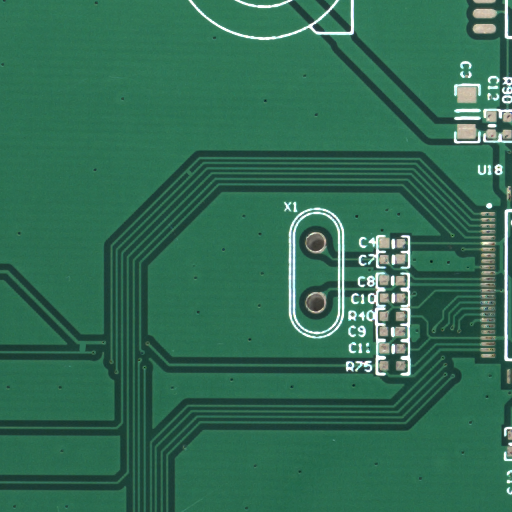Short: (82, 347, 93, 359), (189, 172, 197, 181)
